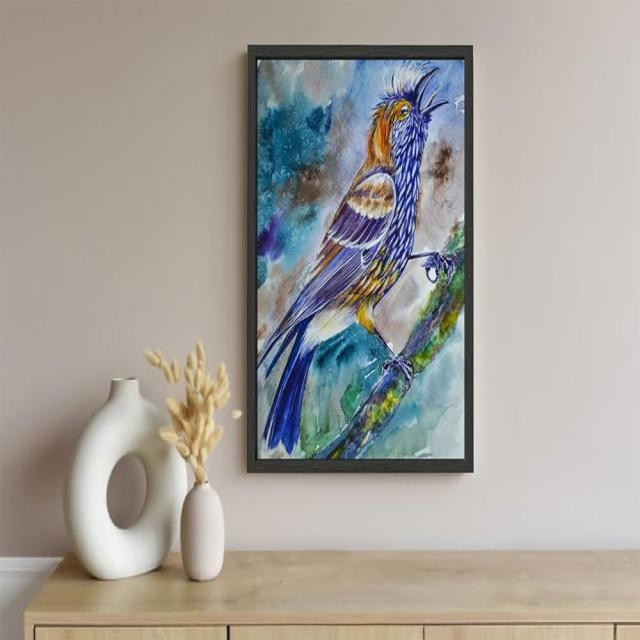painting: (248, 43, 474, 472)
